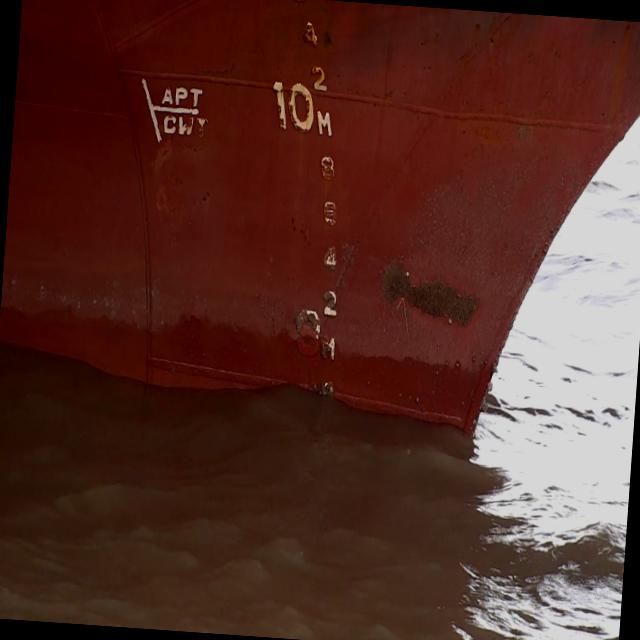Ship Draft Marks: (286, 82, 316, 134), (292, 308, 321, 358), (270, 80, 290, 132), (314, 110, 334, 138), (310, 66, 329, 92), (320, 290, 338, 316), (302, 20, 319, 46), (322, 245, 338, 271), (322, 200, 337, 227), (320, 336, 336, 361), (319, 156, 335, 180)
